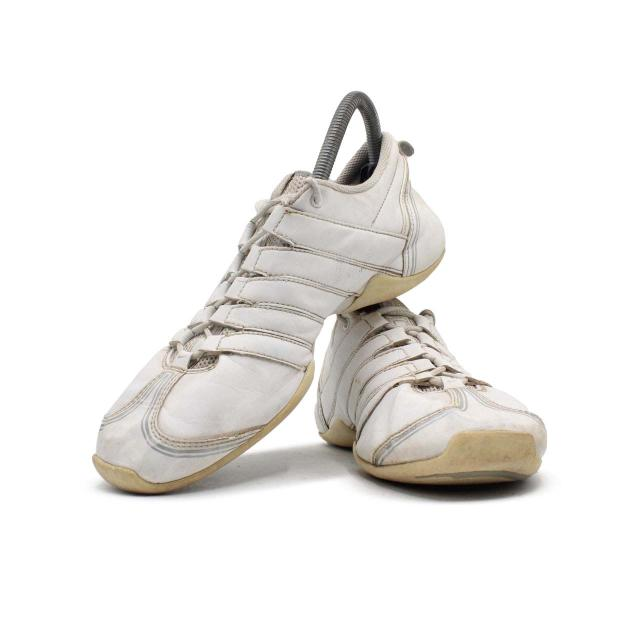heel: (381, 131, 439, 236)
midsole: (94, 218, 446, 498), (313, 396, 537, 481)
uppersole: (95, 177, 419, 480), (329, 303, 545, 461)
